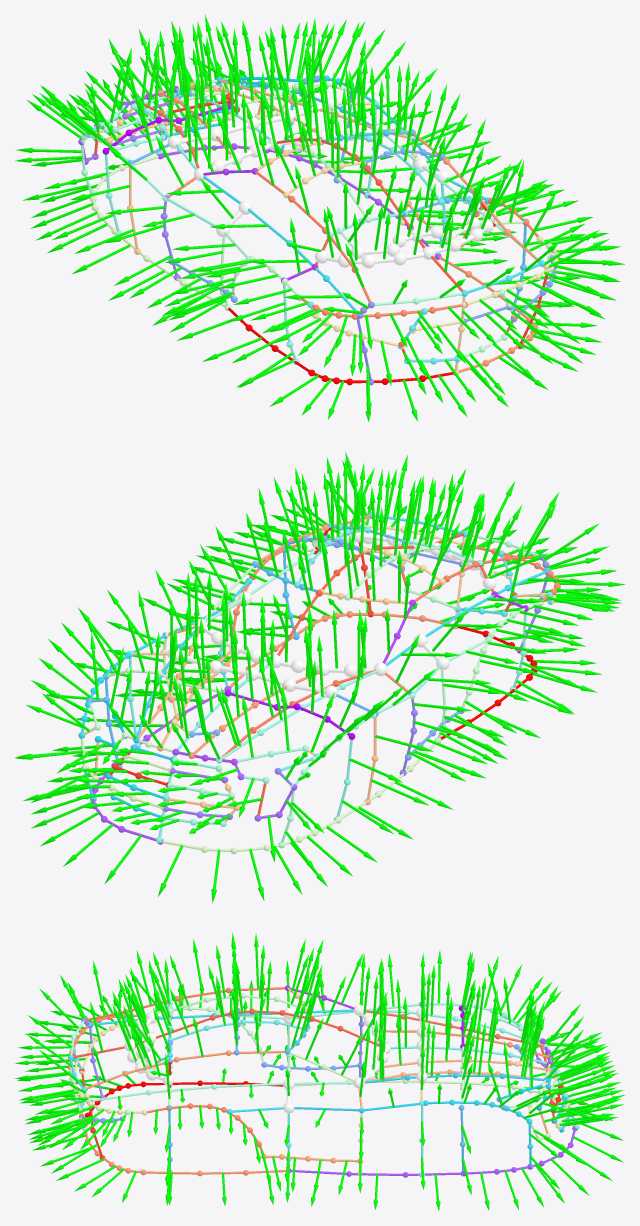
File: ils_car5.gltf
3 renders of one model, top to bottom at view 1: azimuth 30°, elevation 25°; view 2: azimuth 150°, elevation 25°; view 3: azimuth 270°, elevation 25°, orthographic. The views are drawn at different scales.
Bounding box in the file's own units: 0.6143 × 0.3739 × 1.06.
